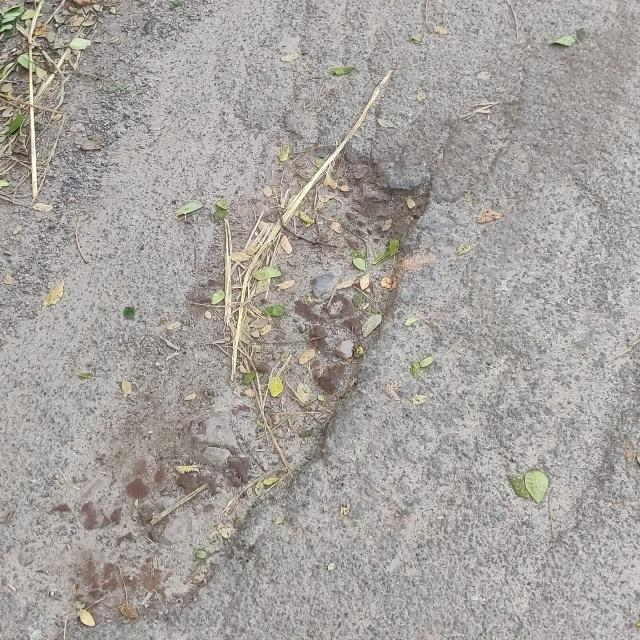Surface Erosion: (0, 54, 631, 640)
